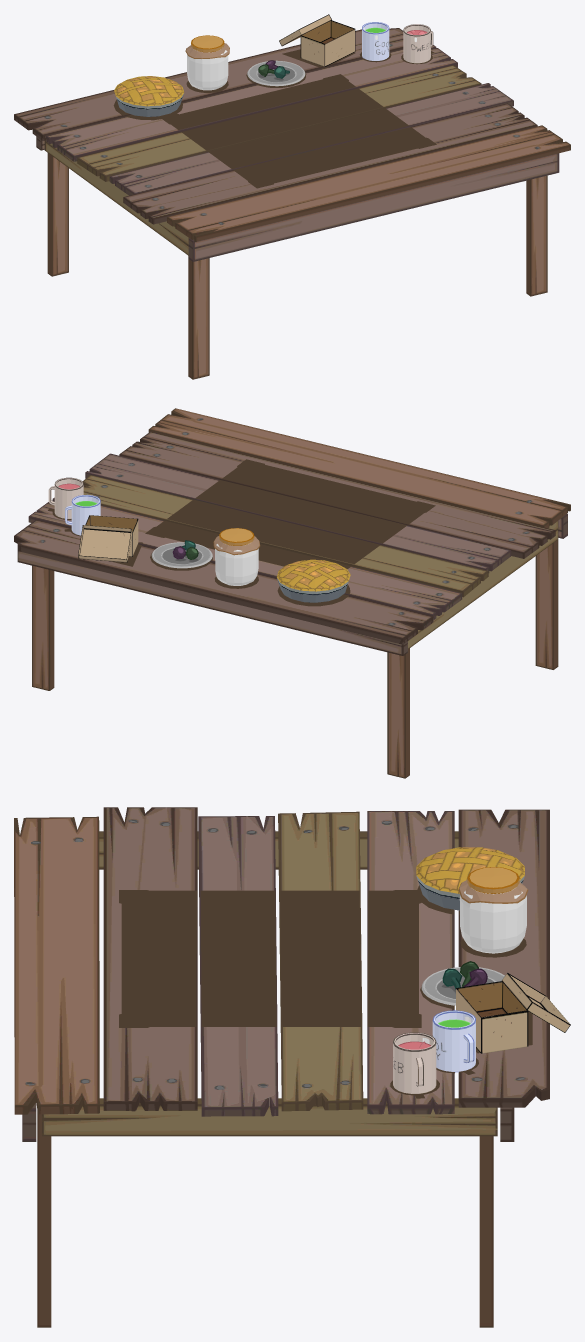
File: DarkForest_Table.glb
3 views of the same model, one above another, from view 1: azimuth 30°, elevation 25°; view 2: azimuth 150°, elevation 25°; view 3: azimuth 270°, elevation 25° (orthographic). The views are drawn at different scales.
Parts seen in each view (by area): view 1: DarkForest_Table, DarkForest_Shadow, DarkForest_Table_Stuff; view 2: DarkForest_Table, DarkForest_Shadow, DarkForest_Table_Stuff; view 3: DarkForest_Table, DarkForest_Shadow, DarkForest_Table_Stuff.
Boxes of the visible parts, x1,y1,x2,y2 form: DarkForest_Table: (14,28,570,379); DarkForest_Shadow: (113,49,436,188); DarkForest_Table_Stuff: (114,14,433,116); DarkForest_Table: (14,408,570,778); DarkForest_Shadow: (48,459,435,606); DarkForest_Table_Stuff: (48,477,350,602); DarkForest_Table: (14,807,549,1327); DarkForest_Shadow: (119,885,532,1098); DarkForest_Table_Stuff: (393,847,570,1093).
Bounding box in the file's own units: 5.35 × 2.52 × 4.19.
Materials: 2 (2 with a texture image).
